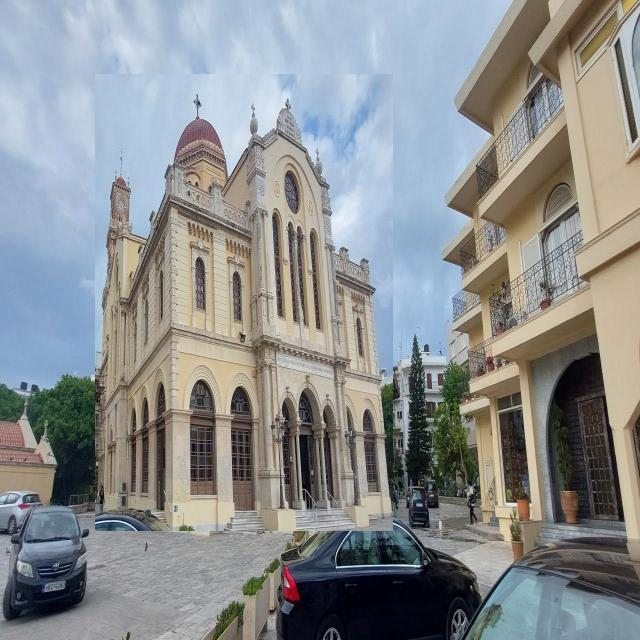Agios Minas: (96, 75, 394, 532)
